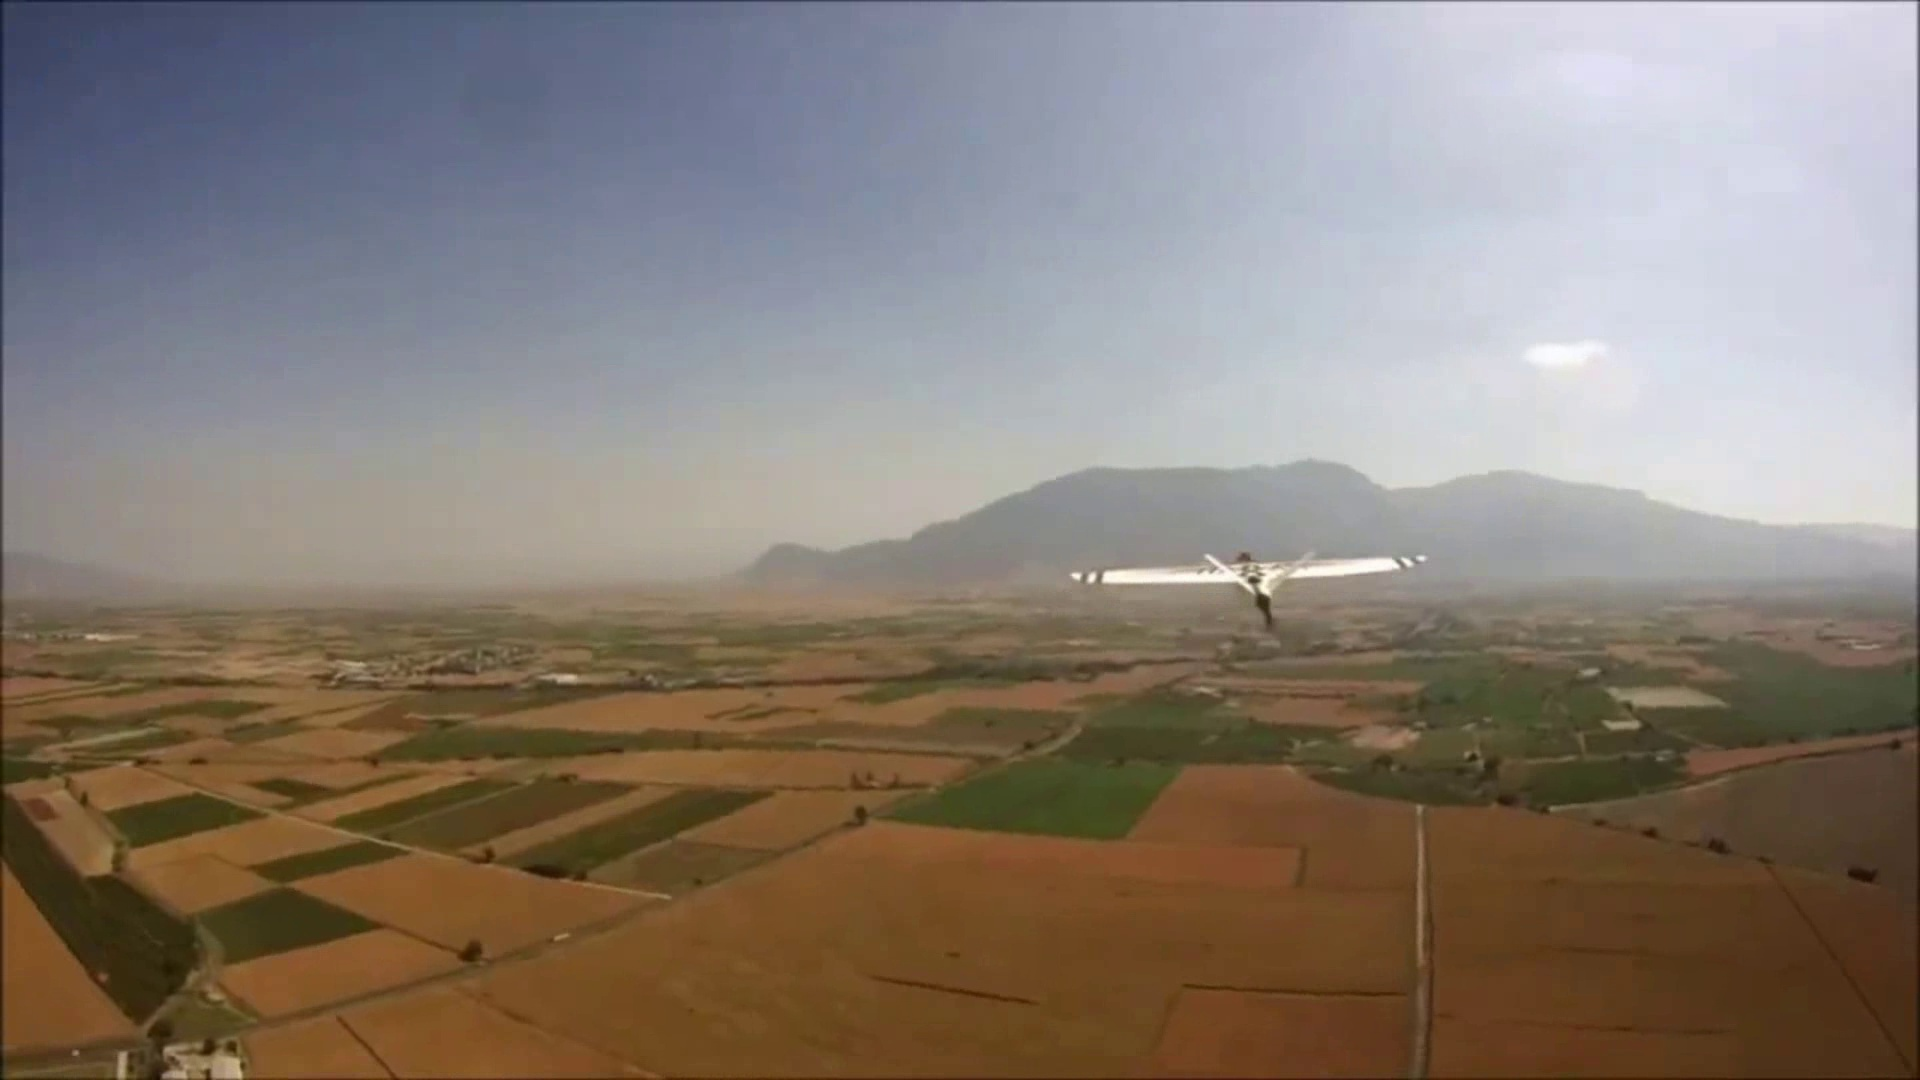airplane: (1068, 546, 1428, 637)
